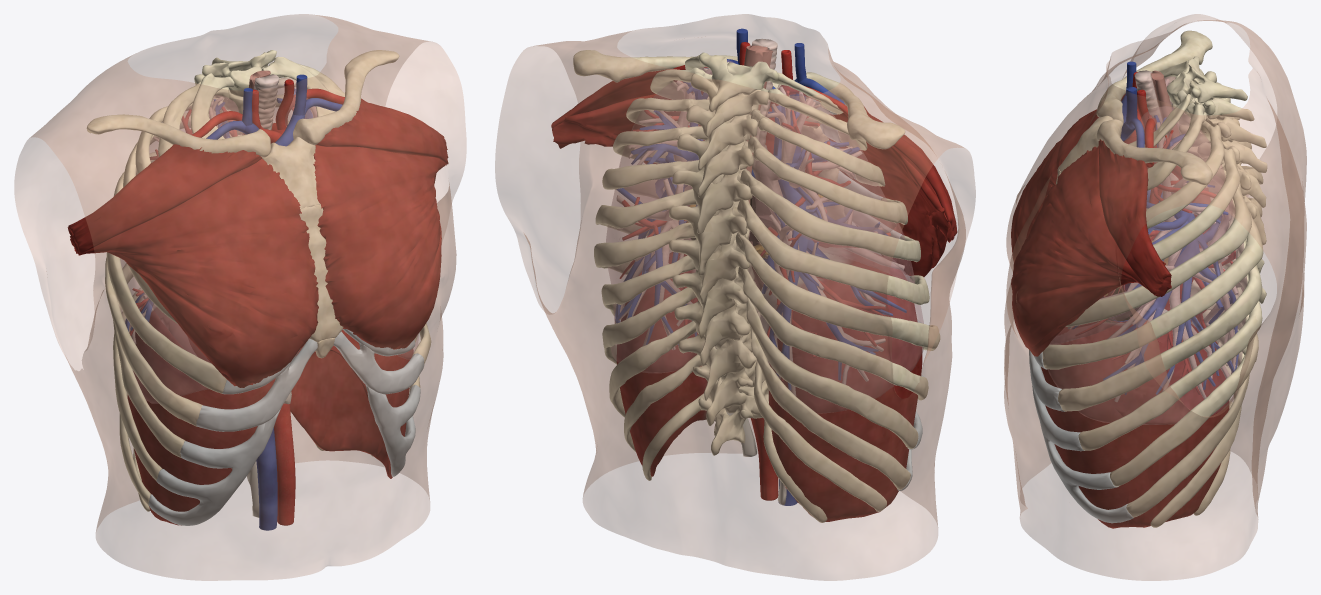
The model's file is cardiotwin_anatomy.glb.
3 renders of one model, left to right at view 1: azimuth 30°, elevation 25°; view 2: azimuth 150°, elevation 25°; view 3: azimuth 270°, elevation 25°, orthographic. The views are drawn at different scales.
Parts seen in each view (by area): view 1: Skin_Torso, Pectoralis_R, Pectoralis_L, Diaphragm, Ribs_R, CostalCartilage, Sternum, Lung_R, Clavicle_R, Clavicle_L, GreatVessel_Aorta, GreatVessel_SVC_BrachiocephalicVeins (+6 smaller); view 2: Skin_Torso, Ribs_R, Spine_Thoracic, Diaphragm, Lung_R, Ribs_L, Lung_L, Pectoralis_R, Trachea_Bronchi, GreatVessel_PulmonaryArtery, Pectoralis_L, Clavicle_L (+8 smaller); view 3: Skin_Torso, Ribs_L, Pectoralis_L, Lung_L, Diaphragm, Spine_Thoracic, CostalCartilage, Trachea_Bronchi, GreatVessel_PulmonaryArtery, Pectoralis_R, Clavicle_L, Clavicle_R (+7 smaller).
Boxes of the visible parts, x1,y1,x2,y2 form: Skin_Torso: [14, 14, 466, 580]; Pectoralis_R: [67, 144, 318, 387]; Pectoralis_L: [313, 98, 448, 349]; Diaphragm: [127, 308, 413, 525]; Ribs_R: [105, 73, 234, 511]; CostalCartilage: [148, 329, 424, 525]; Sternum: [262, 137, 343, 358]; Lung_R: [119, 95, 245, 403]; Clavicle_R: [86, 114, 270, 157]; Clavicle_L: [293, 50, 399, 145]; GreatVessel_Aorta: [271, 123, 295, 525]; GreatVessel_SVC_BrachiocephalicVeins: [206, 74, 342, 146]; Skin_Torso: [495, 14, 975, 580]; Ribs_R: [735, 72, 940, 522]; Spine_Thoracic: [669, 52, 779, 455]; Diaphragm: [616, 245, 922, 521]; Lung_R: [748, 84, 923, 413]; Ribs_L: [594, 55, 728, 480]; Lung_L: [606, 60, 734, 372]; Pectoralis_R: [829, 106, 957, 276]; Trachea_Bronchi: [615, 38, 904, 395]; GreatVessel_PulmonaryArtery: [615, 81, 906, 389]; Pectoralis_L: [551, 70, 703, 163]; Clavicle_L: [573, 50, 737, 82]; Skin_Torso: [1004, 14, 1306, 580]; Ribs_L: [1042, 90, 1263, 527]; Pectoralis_L: [1011, 139, 1171, 356]; Lung_L: [1048, 106, 1247, 424]; Diaphragm: [1041, 309, 1229, 528]; Spine_Thoracic: [1166, 56, 1267, 408]; CostalCartilage: [1029, 350, 1133, 523]; Trachea_Bronchi: [1068, 70, 1238, 401]; GreatVessel_PulmonaryArtery: [1072, 108, 1238, 394]; Pectoralis_R: [1011, 94, 1169, 262]; Clavicle_L: [1096, 119, 1212, 184]; Clavicle_R: [1096, 30, 1212, 123].
Size of the model in its own units: 3.83 by 4.17 by 2.6.
41 materials, 32 textured.
